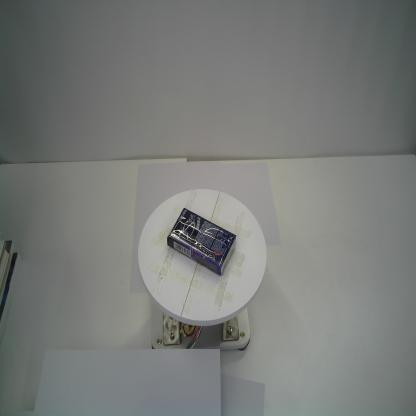Gum: (166, 207, 236, 276)
